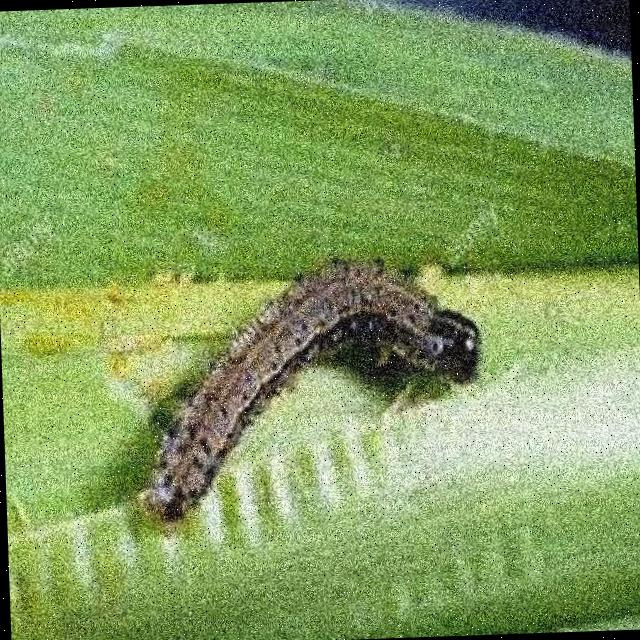worm: (131, 249, 487, 524)
